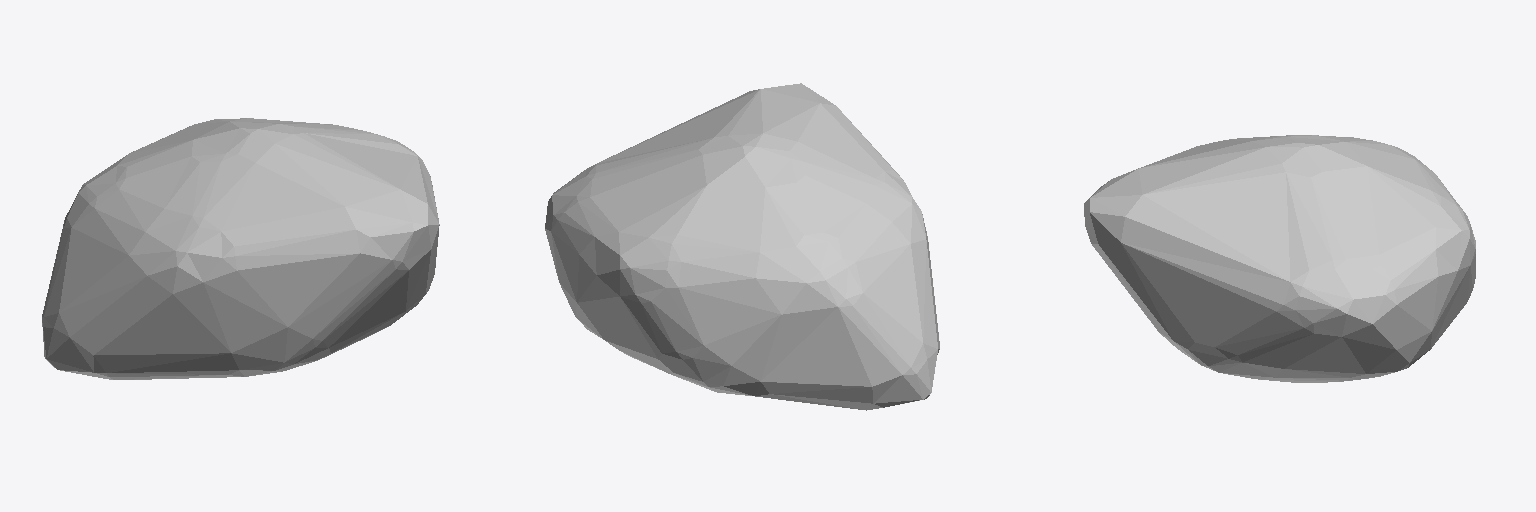
File: Rock.obj
3 renders of one model, left to right at view 1: azimuth 30°, elevation 25°; view 2: azimuth 150°, elevation 25°; view 3: azimuth 270°, elevation 25°, orthographic.
Visible parts, largest first — view 1: Rock_Icosphere.001; view 2: Rock_Icosphere.001; view 3: Rock_Icosphere.001.
Part boxes in pixels (x1,y1,x2,y2): Rock_Icosphere.001: (42, 118, 439, 379); Rock_Icosphere.001: (545, 83, 939, 410); Rock_Icosphere.001: (1084, 135, 1475, 382).
Bounding box in the file's own units: 4.29 × 2.53 × 3.91.